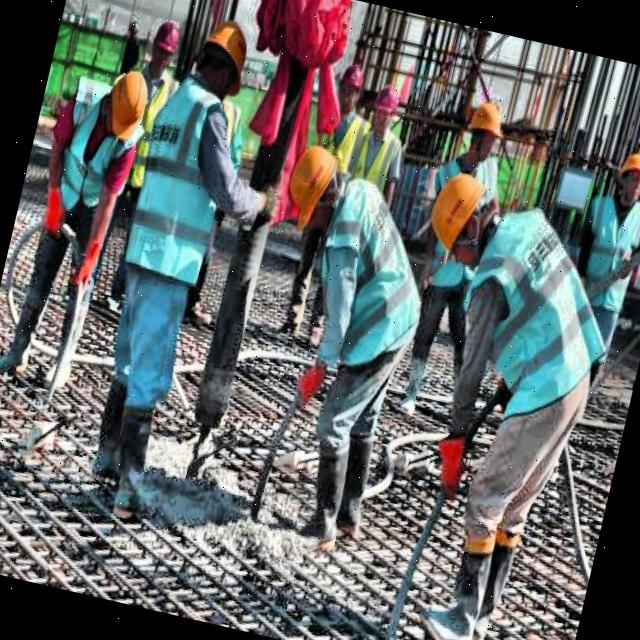helmet: (416, 158, 502, 272), (276, 138, 346, 240), (187, 12, 257, 106), (94, 56, 160, 148), (456, 92, 514, 171), (146, 6, 193, 76), (328, 54, 370, 119), (363, 80, 408, 138), (610, 141, 640, 209)
